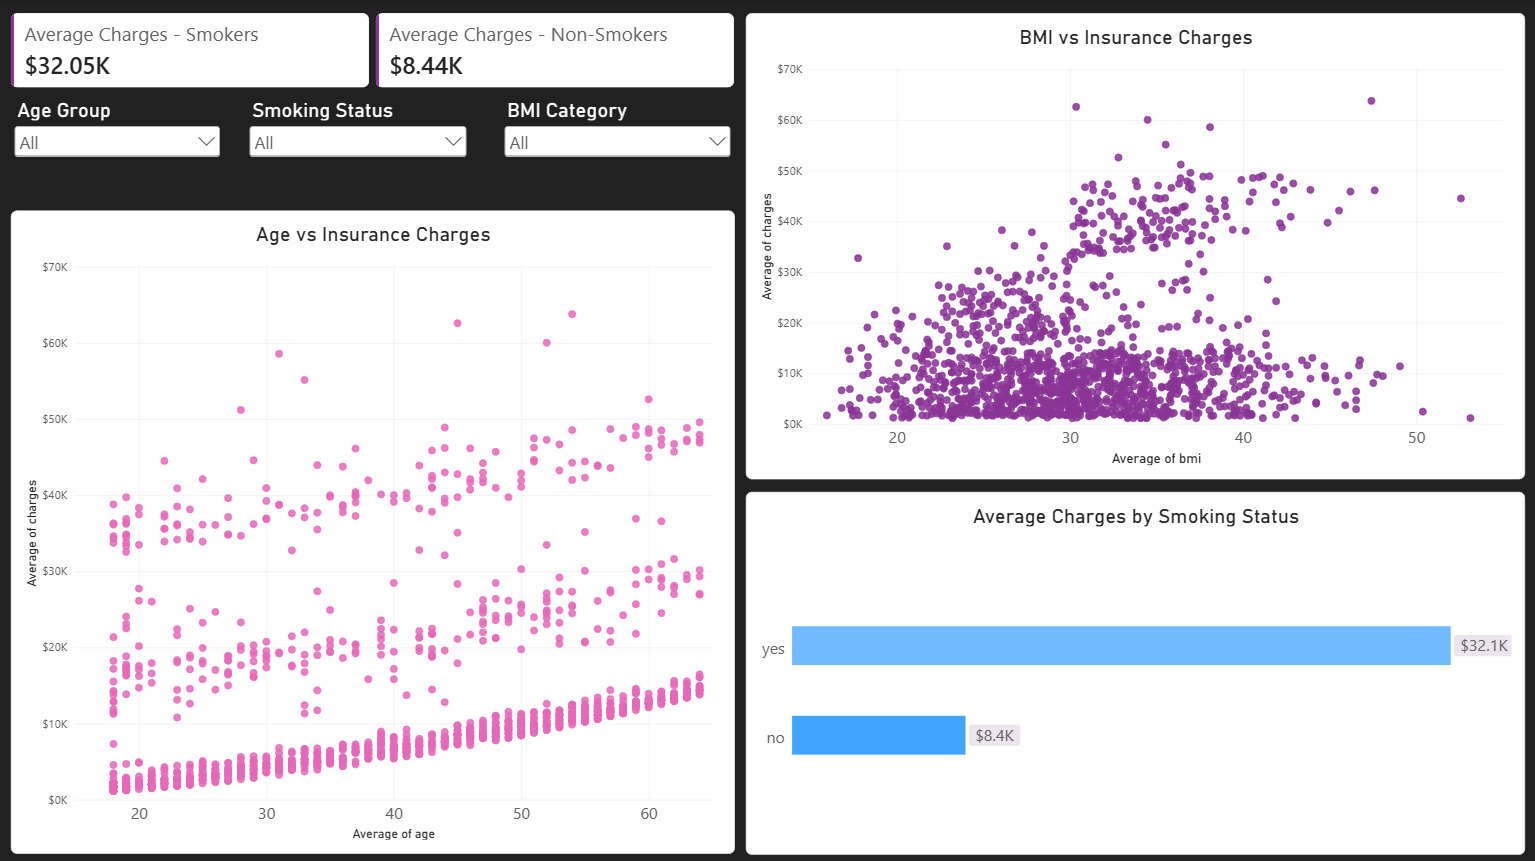

What the dashboard file says about the page in this screenshot:
{"tool":"powerbi","page":{"name":"Health & Lifestyle Analysis","canvas":[1920,1080],"ordinal":1},"visuals":[{"type":"cardVisual","fields":{"Data":["healthcare_insurance_cleaned.Average Charges - Smokers","healthcare_insurance_cleaned.Average Charges - Non-Smokers"]},"box":[16.8,18.7,903.2,93.5],"z":0},{"type":"clusteredBarChart","title":"Average Charges by Smoking Status","fields":{"Category":["healthcare_insurance_cleaned.smoker"],"Y":["Avg(healthcare_insurance_cleaned.charges)"]},"box":[933.1,615.2,972.3,452.5],"z":1000},{"type":"scatterChart","title":"BMI vs Insurance Charges","fields":{"Category":["healthcare_insurance_cleaned.Customer Row ID"],"X":["Avg(healthcare_insurance_cleaned.bmi)"],"Y":["healthcare_insurance_cleaned.charges"]},"box":[933.1,18.7,972.3,581.5],"z":2000},{"type":"scatterChart","title":"Age vs Insurance Charges","fields":{"Category":["healthcare_insurance_cleaned.Customer Row ID"],"X":["Avg(healthcare_insurance_cleaned.age)"],"Y":["healthcare_insurance_cleaned.charges"]},"box":[16.8,265.5,903.2,802.2],"z":3000},{"type":"slicer","fields":{"Values":["healthcare_insurance_cleaned.BMI Category"]},"box":[628.3,125.3,291.7,112.2],"z":4000},{"type":"slicer","fields":{"Values":["healthcare_insurance_cleaned.age_group"]},"box":[16.8,125.3,265.5,112.2],"z":5000},{"type":"slicer","fields":{"Values":["healthcare_insurance_cleaned.smoker"]},"box":[310.4,125.3,280.5,112.2],"z":6000}]}

Visuals, with their boxes in screenshot pixels (x1, y1, x2, y2), scaled from the page's 1920x1080 canvas onto the 1535x861 screenshot:
cardVisual - healthcare_insurance_cleaned.Average Charges - Smokers x healthcare_insurance_cleaned.Average Charges - Non-Smokers: [13,15,736,89]
"Average Charges by Smoking Status" clusteredBarChart: [746,490,1523,851]
"BMI vs Insurance Charges" scatterChart: [746,15,1523,478]
"Age vs Insurance Charges" scatterChart: [13,212,736,851]
slicer - healthcare_insurance_cleaned.BMI Category: [502,100,736,189]
slicer - healthcare_insurance_cleaned.age_group: [13,100,226,189]
slicer - healthcare_insurance_cleaned.smoker: [248,100,472,189]
